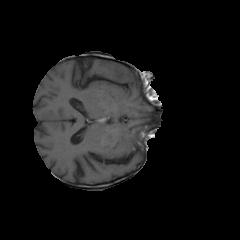glioma: (95, 60, 134, 108)
